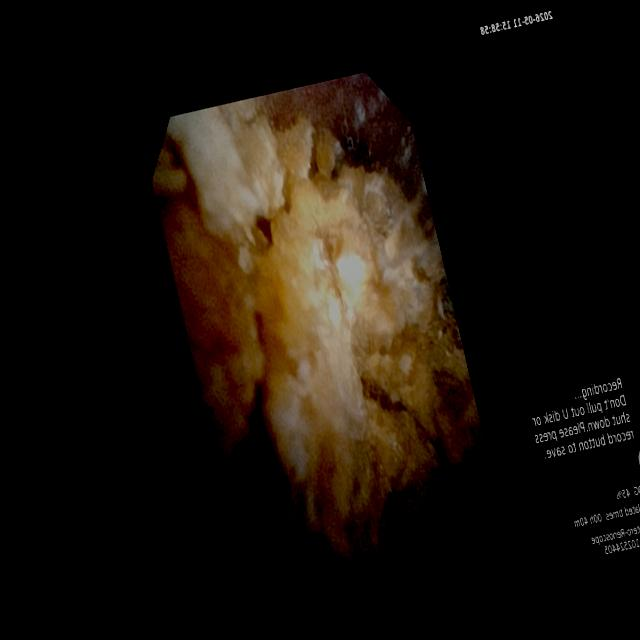laser-fibre: (380, 188, 434, 271)
laser_dot: (337, 254, 365, 301)
stone-new: (254, 170, 488, 565), (156, 194, 263, 485), (167, 100, 313, 244)
